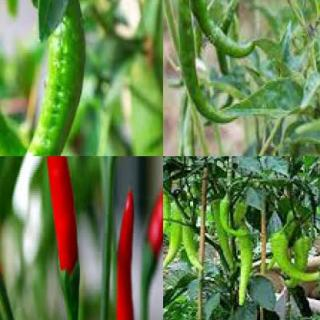green_chilli: (0, 0, 89, 155), (0, 19, 78, 155), (167, 0, 243, 120), (192, 0, 262, 53), (263, 229, 319, 283), (210, 198, 234, 274), (238, 224, 255, 308), (218, 195, 252, 237), (286, 234, 312, 287), (163, 207, 185, 269), (181, 224, 207, 272), (163, 190, 172, 243)
